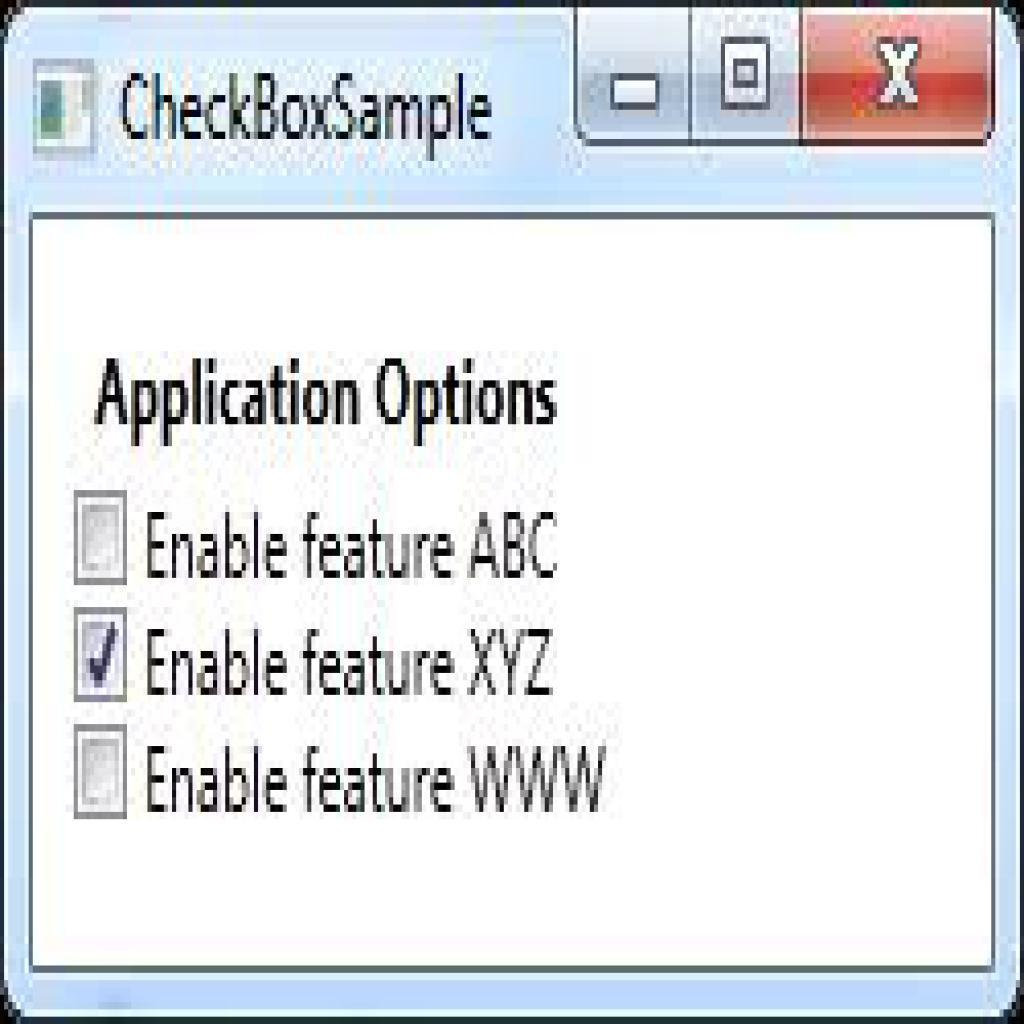checkbox: (71, 605, 131, 706), (72, 490, 131, 586), (73, 723, 133, 816)
